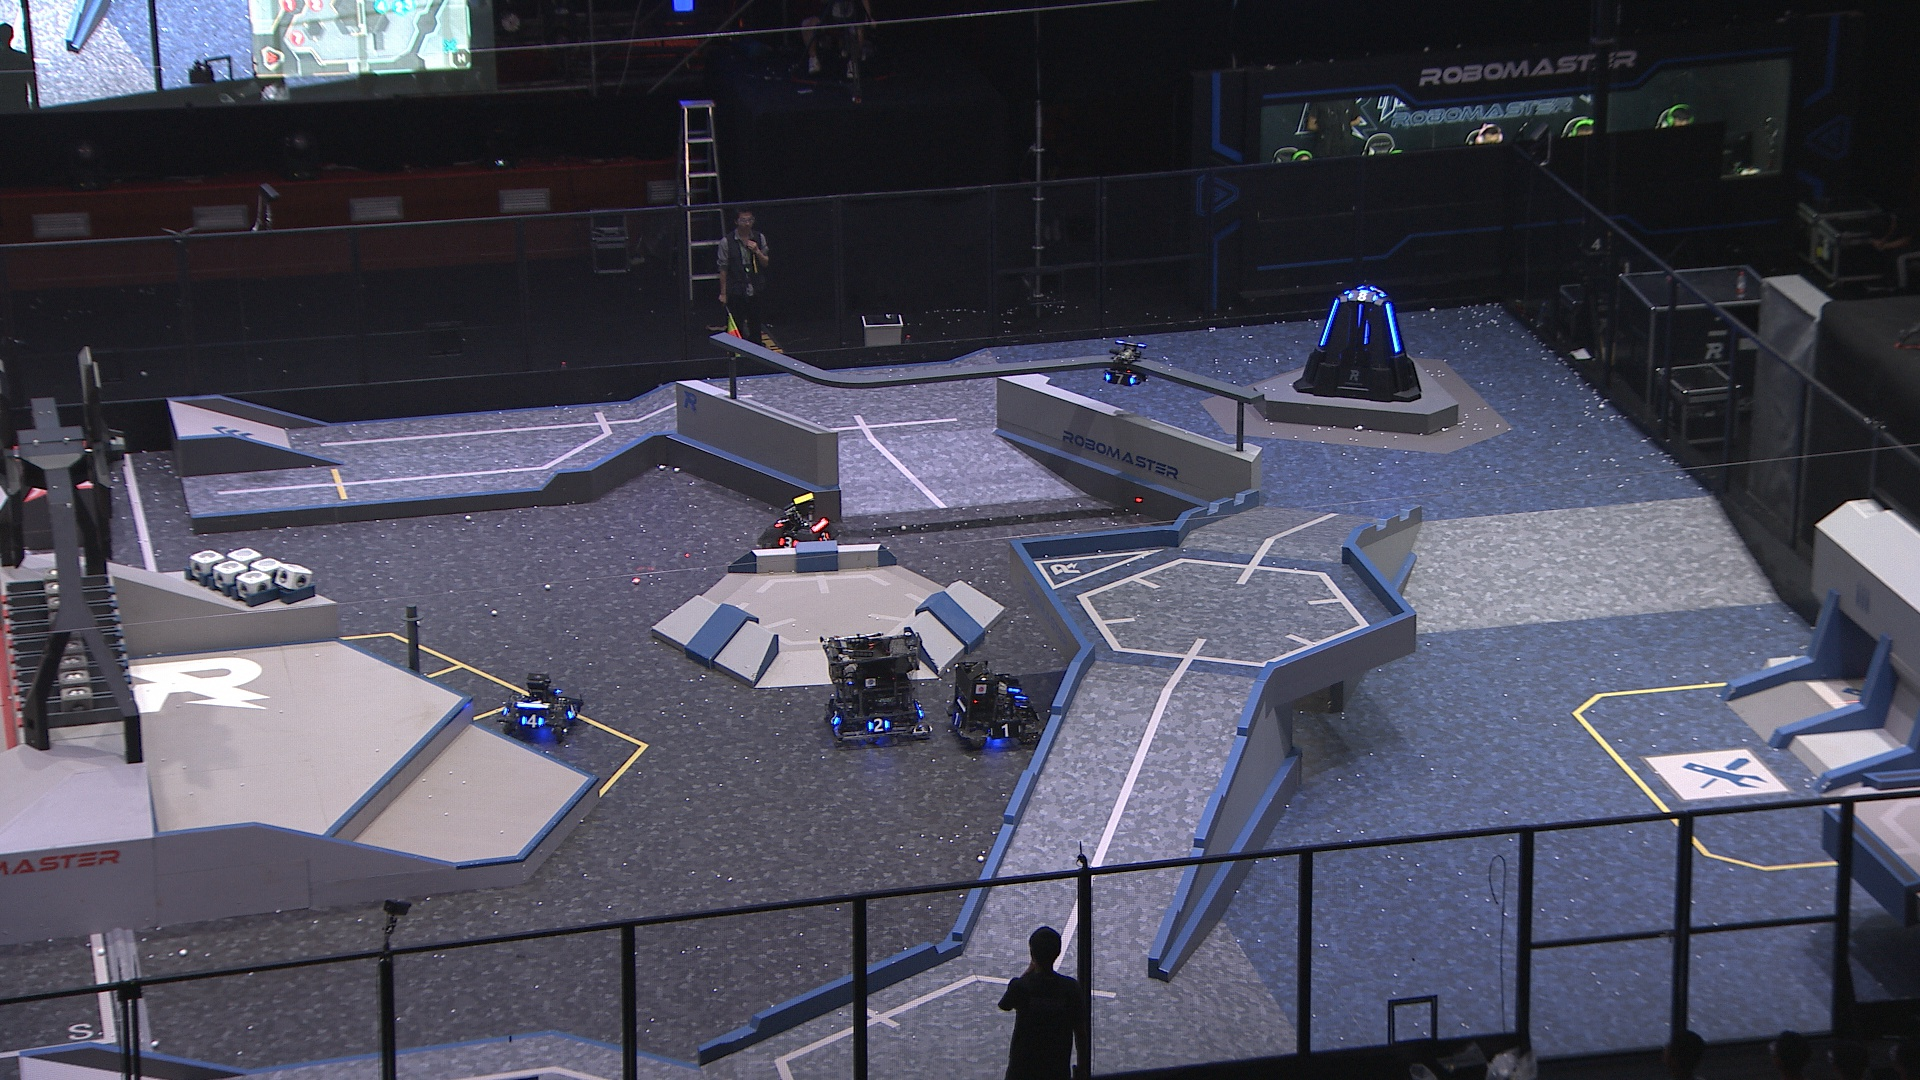armor: (1317, 295, 1342, 348), (1385, 301, 1403, 353), (988, 723, 1025, 741), (1102, 372, 1138, 386), (1346, 290, 1381, 305), (866, 717, 893, 735), (520, 713, 546, 728), (949, 709, 965, 732), (1361, 320, 1371, 347), (778, 535, 799, 549), (829, 711, 845, 727), (564, 704, 582, 719), (774, 516, 790, 529), (818, 531, 832, 543)
base: (1291, 286, 1423, 404)
car: (822, 632, 935, 744), (949, 662, 1046, 752), (498, 674, 585, 742), (760, 491, 836, 564)
watcher: (1102, 342, 1150, 389)
